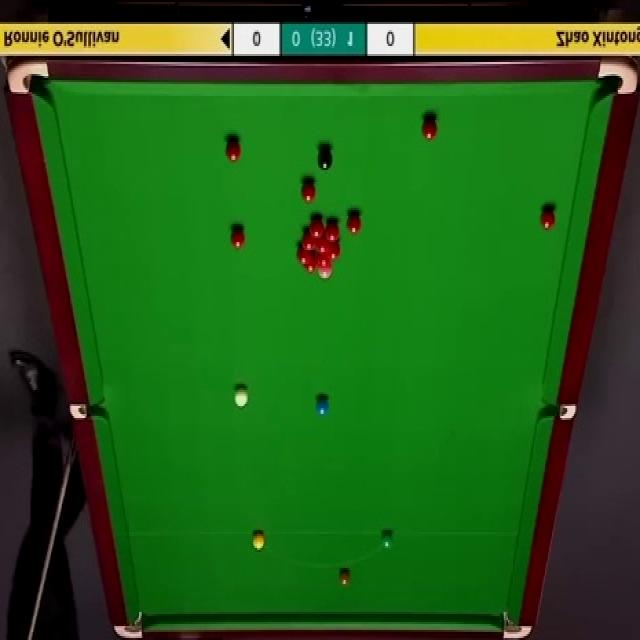pocket: (7, 58, 50, 97), (597, 57, 637, 98), (111, 606, 145, 640), (499, 608, 533, 640), (541, 403, 575, 422), (68, 404, 104, 418)
